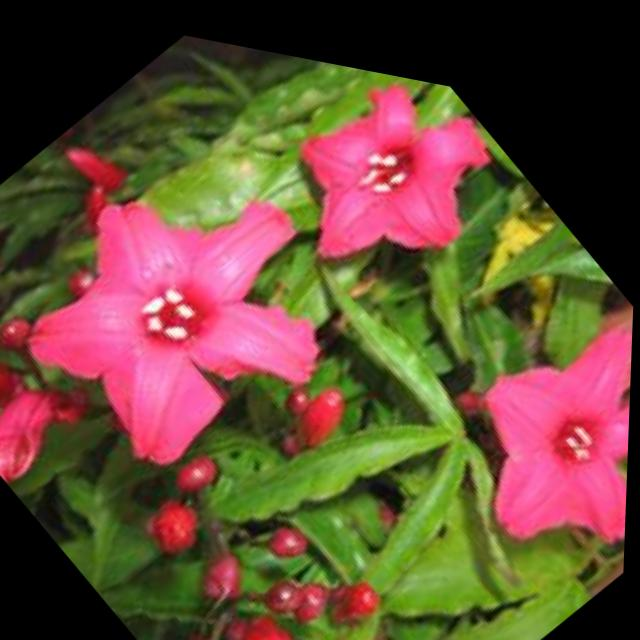Flower: (0, 78, 386, 524), (420, 241, 635, 577), (259, 41, 518, 318)
